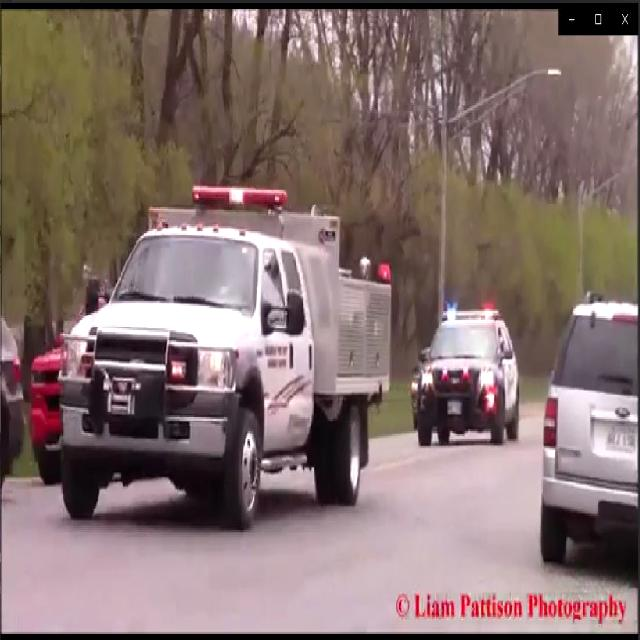emergency: (52, 177, 396, 536), (407, 294, 520, 456)
